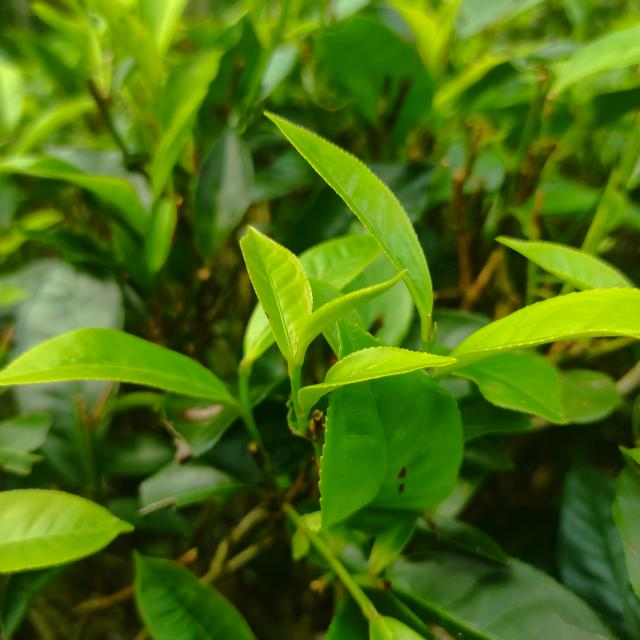unopened_leaf: (286, 258, 416, 367)
